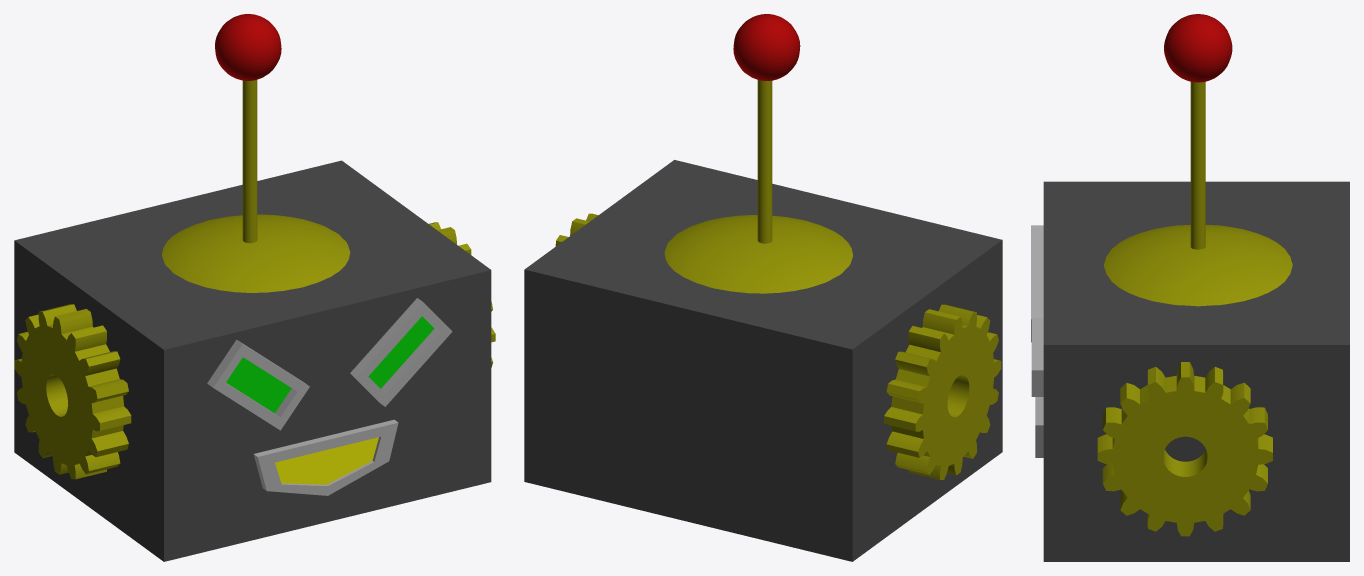
File: ChedHead.fbx
3 renders of one model, left to right at view 1: azimuth 30°, elevation 25°; view 2: azimuth 150°, elevation 25°; view 3: azimuth 270°, elevation 25°, orthographic. The views are drawn at different scales.
Parts seen in each view (by area): view 1: ChedHead; view 2: ChedHead; view 3: ChedHead.
Boxes of the visible parts, <box> form: ChedHead: <box>14,14,495,561</box>; ChedHead: <box>524,14,1002,561</box>; ChedHead: <box>1031,14,1349,561</box>.
Size of the model in its own units: 0.7938 by 0.8775 by 0.55.
